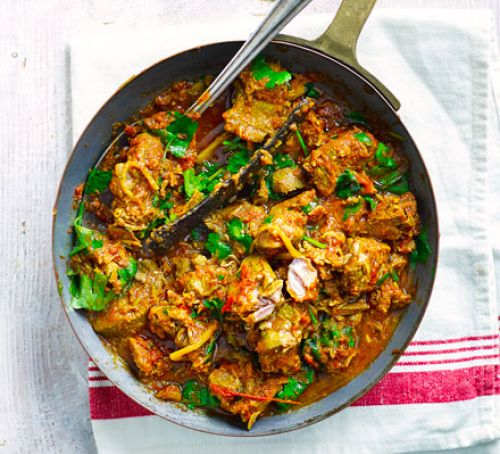chicken_curry: (121, 79, 401, 401)
